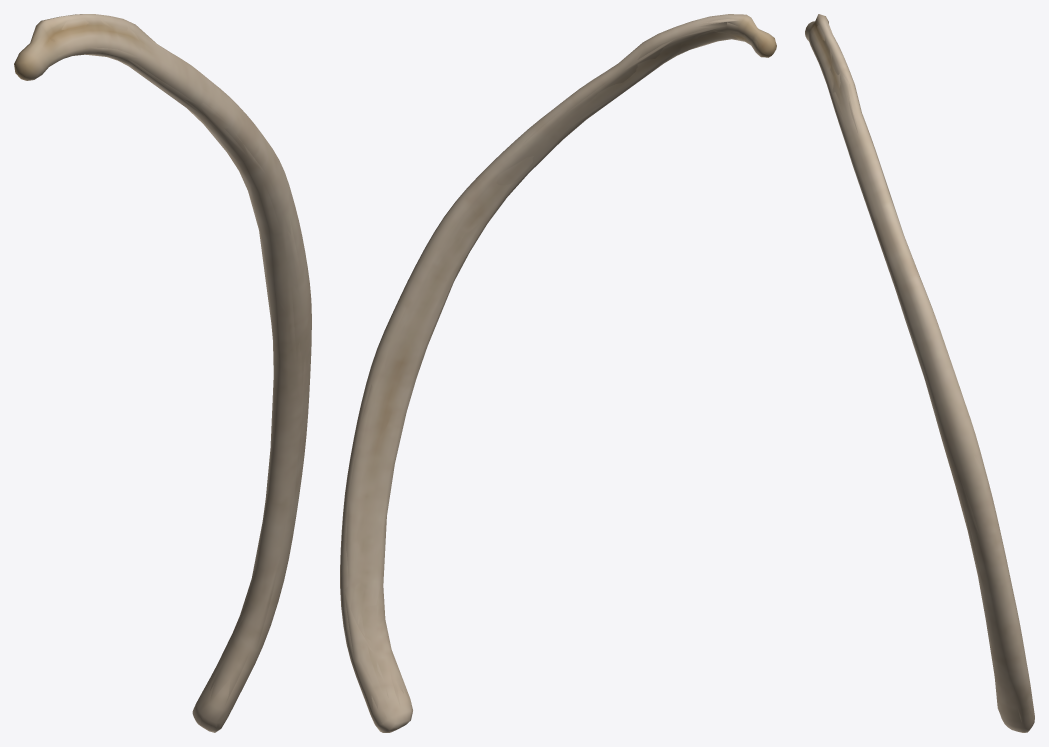
Rendered from Rib L09.fbx.
The picture shows the model from 3 angles, left to right: view 1: azimuth 30°, elevation 25°; view 2: azimuth 150°, elevation 25°; view 3: azimuth 270°, elevation 25°; orthographic projection. The views are drawn at different scales.
Visible parts, largest first — view 1: Rib L09 low, Rib L09; view 2: Rib L09, Rib L09 low; view 3: Rib L09, Rib L09 low.
Part boxes in pixels (left/top/right/bottom): Rib L09 low: left=22, top=14, right=309, bottom=730; Rib L09: left=14, top=14, right=311, bottom=732; Rib L09: left=340, top=14, right=776, bottom=732; Rib L09 low: left=344, top=14, right=771, bottom=731; Rib L09: left=805, top=14, right=1034, bottom=732; Rib L09 low: left=809, top=16, right=1034, bottom=726.
Bounding box in the file's own units: 23.31 × 47.49 × 16.13.
1 material, 1 textured.
